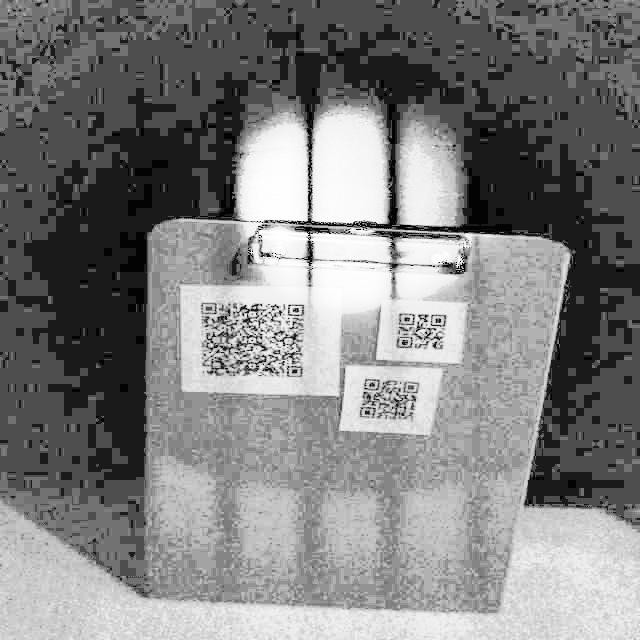qr_code: (192, 291, 311, 387), (349, 370, 429, 427), (390, 303, 454, 357)
